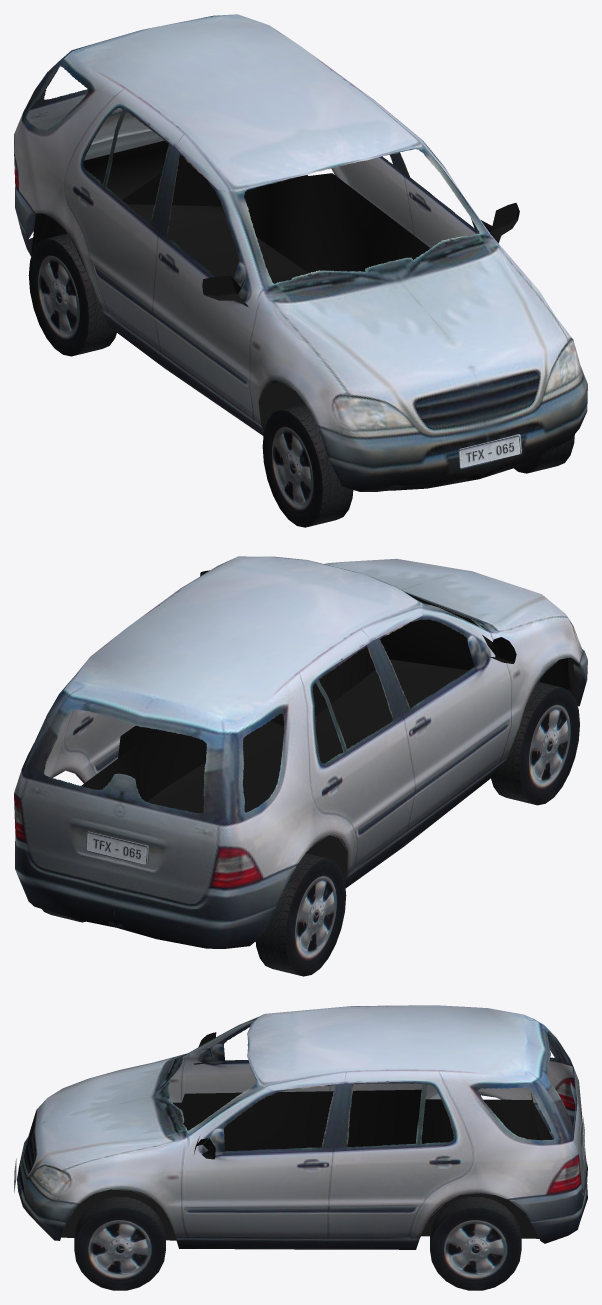
File: car29.FBX
3 renders of one model, top to bottom at view 1: azimuth 30°, elevation 25°; view 2: azimuth 150°, elevation 25°; view 3: azimuth 270°, elevation 25°, orthographic. The views are drawn at different scales.
Parts seen in each view (by area): view 1: 29car, rueda, rueda003, rueda001; view 2: 29car, rueda003, rueda; view 3: 29car, rueda001, rueda002.
Boxes of the visible parts, left/top/right/bottom form: 29car: left=14, top=14, right=587, bottom=491; rueda: left=262, top=403, right=353, bottom=527; rueda003: left=28, top=233, right=116, bottom=356; rueda001: left=514, top=434, right=574, bottom=473; 29car: left=14, top=556, right=587, bottom=948; rueda003: left=255, top=853, right=346, bottom=976; rueda: left=491, top=682, right=579, bottom=805; 29car: left=14, top=1005, right=587, bottom=1249; rueda001: left=74, top=1197, right=165, bottom=1290; rueda002: left=430, top=1197, right=521, bottom=1290.
Bounding box in the file's own units: 2.02 × 1.71 × 4.2.
